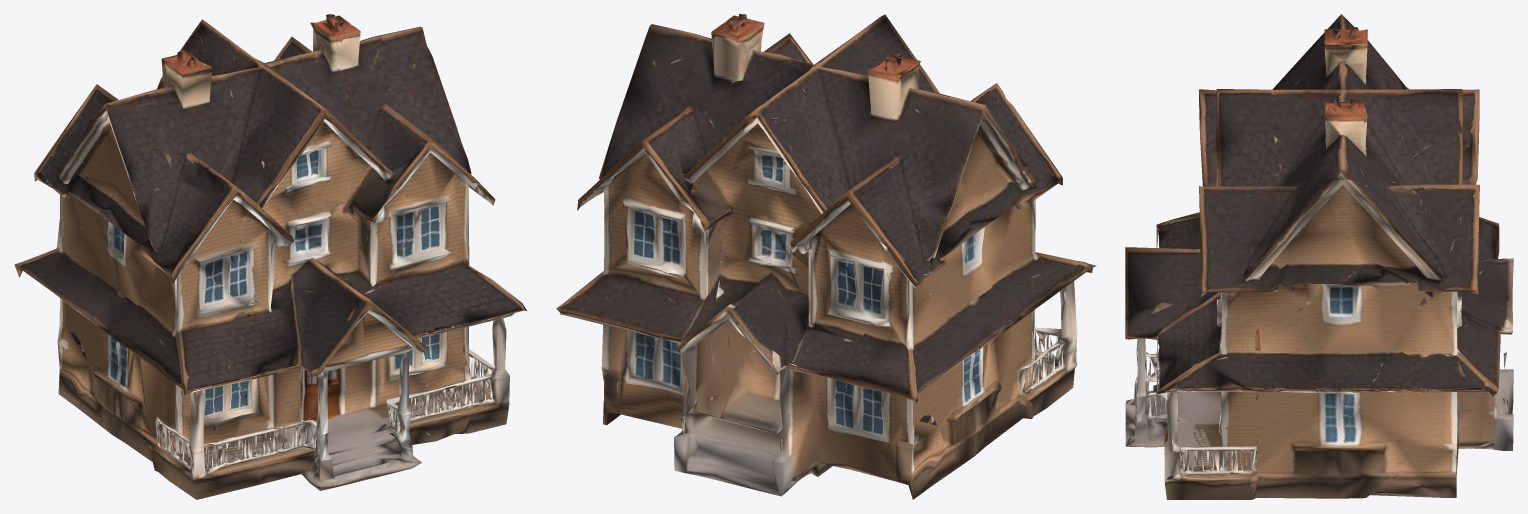
Rendered from Golden_Gables_optimized.glb.
The picture shows the model from 3 angles, left to right: view 1: azimuth 30°, elevation 25°; view 2: azimuth 150°, elevation 25°; view 3: azimuth 270°, elevation 25°; orthographic projection. The views are drawn at different scales.
Bounding box in the file's own units: 1.87 × 1.89 × 1.84.
Materials: 1 (1 with a texture image).
